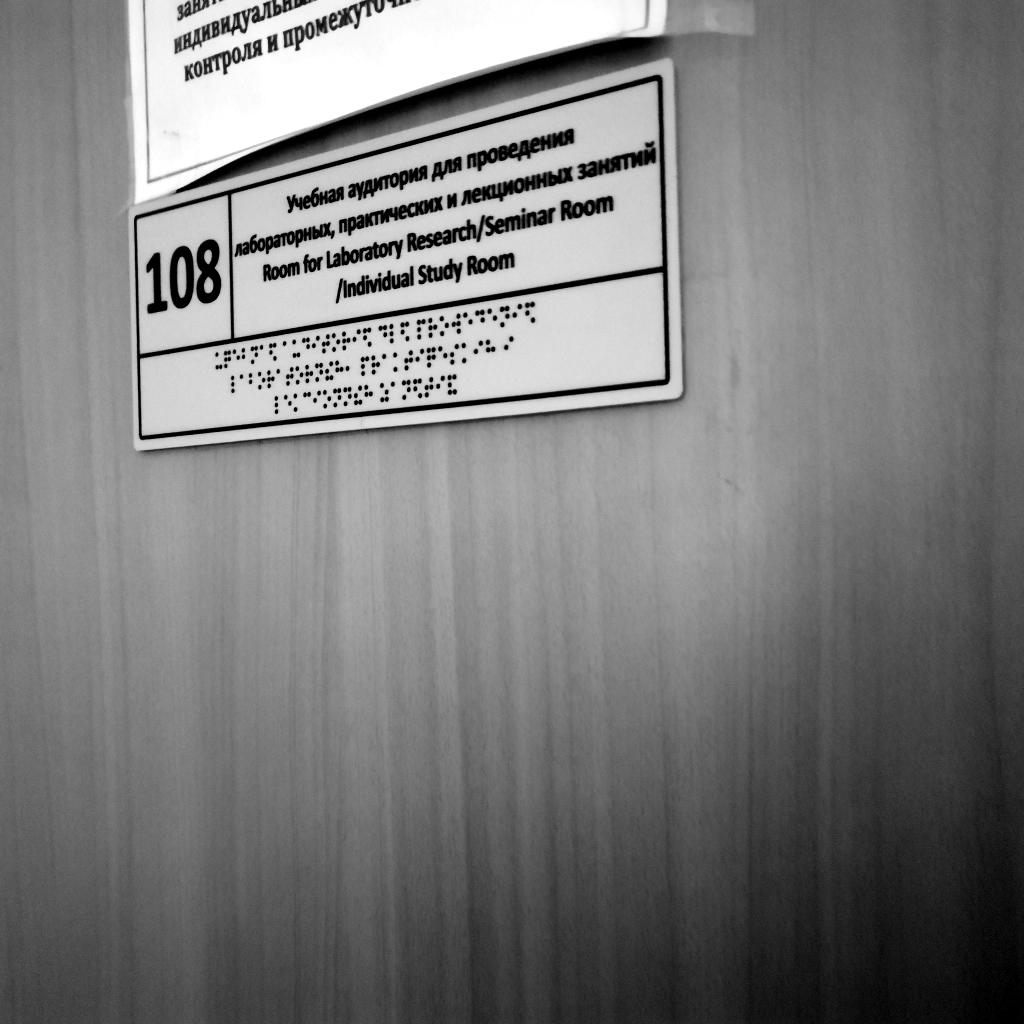_n: (500, 306, 510, 329), (402, 379, 411, 401), (343, 386, 352, 407), (333, 388, 341, 408), (250, 346, 258, 365), (315, 363, 323, 382)
_y: (292, 338, 301, 358), (215, 352, 223, 370)
a: (382, 354, 391, 374), (259, 344, 268, 363), (391, 381, 399, 402), (283, 341, 291, 360), (240, 374, 248, 392), (276, 369, 284, 387)
b: (241, 348, 249, 367), (249, 373, 257, 391)
c: (304, 391, 312, 411)
ch: (426, 347, 436, 368), (224, 351, 231, 369)
d: (475, 309, 485, 331), (379, 325, 388, 346), (302, 337, 310, 357)
e: (463, 312, 473, 334), (488, 308, 498, 330), (438, 345, 448, 366), (232, 348, 240, 368), (284, 394, 292, 413)
i: (504, 335, 515, 359), (512, 304, 522, 328), (436, 375, 446, 397), (474, 340, 484, 361), (352, 329, 361, 350), (415, 348, 424, 369), (312, 335, 320, 356), (313, 390, 321, 411)
iKratkoe: (447, 373, 458, 396)
ii: (354, 385, 363, 406), (325, 361, 334, 381)
k: (461, 342, 472, 364), (393, 352, 403, 372), (293, 393, 303, 412)
l: (390, 323, 399, 344), (275, 395, 284, 415), (231, 375, 239, 393)
o: (439, 316, 449, 337), (331, 333, 340, 353), (295, 366, 304, 386), (323, 389, 332, 409), (258, 372, 265, 390)
p: (360, 356, 370, 377), (417, 319, 426, 341)
r: (371, 354, 380, 376), (429, 317, 438, 338), (342, 331, 351, 351), (305, 364, 314, 384), (267, 370, 275, 389)
s: (450, 344, 460, 366)
t: (425, 376, 434, 399), (404, 351, 414, 371), (322, 334, 330, 354), (286, 367, 294, 387)
v: (452, 314, 461, 335)
x: (486, 339, 496, 361), (365, 384, 374, 404), (335, 360, 344, 379)
ya: (525, 301, 536, 325), (400, 322, 410, 343), (413, 378, 422, 400), (363, 327, 372, 348), (269, 343, 278, 362)
z: (380, 382, 389, 403)
zapyataya: (345, 360, 354, 378)
